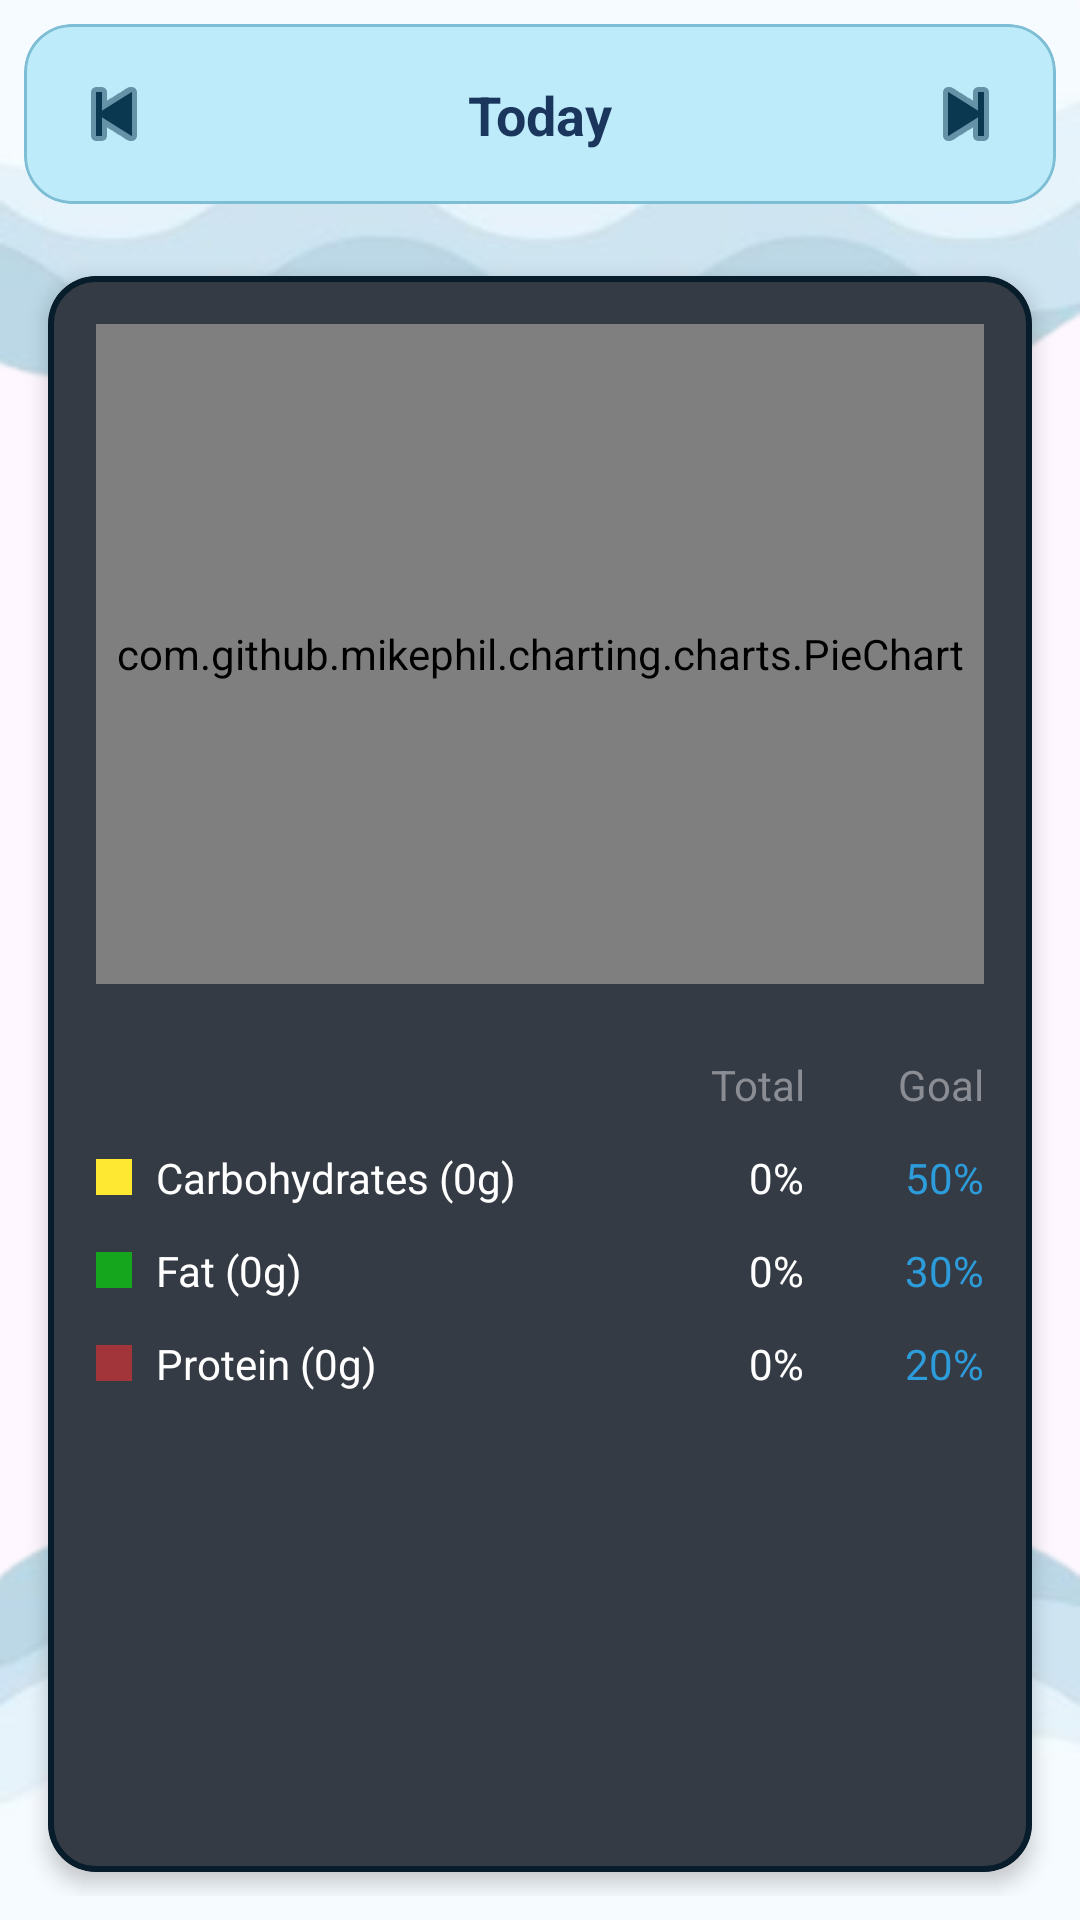

Screen size 1080 × 1920. Icon name, then its box in pixels as {"left": x1, "top": y1, "right": x2, "bottom": y2}:
next: {"left": 943, "top": 87, "right": 989, "bottom": 141}
previous: {"left": 91, "top": 87, "right": 137, "bottom": 141}
